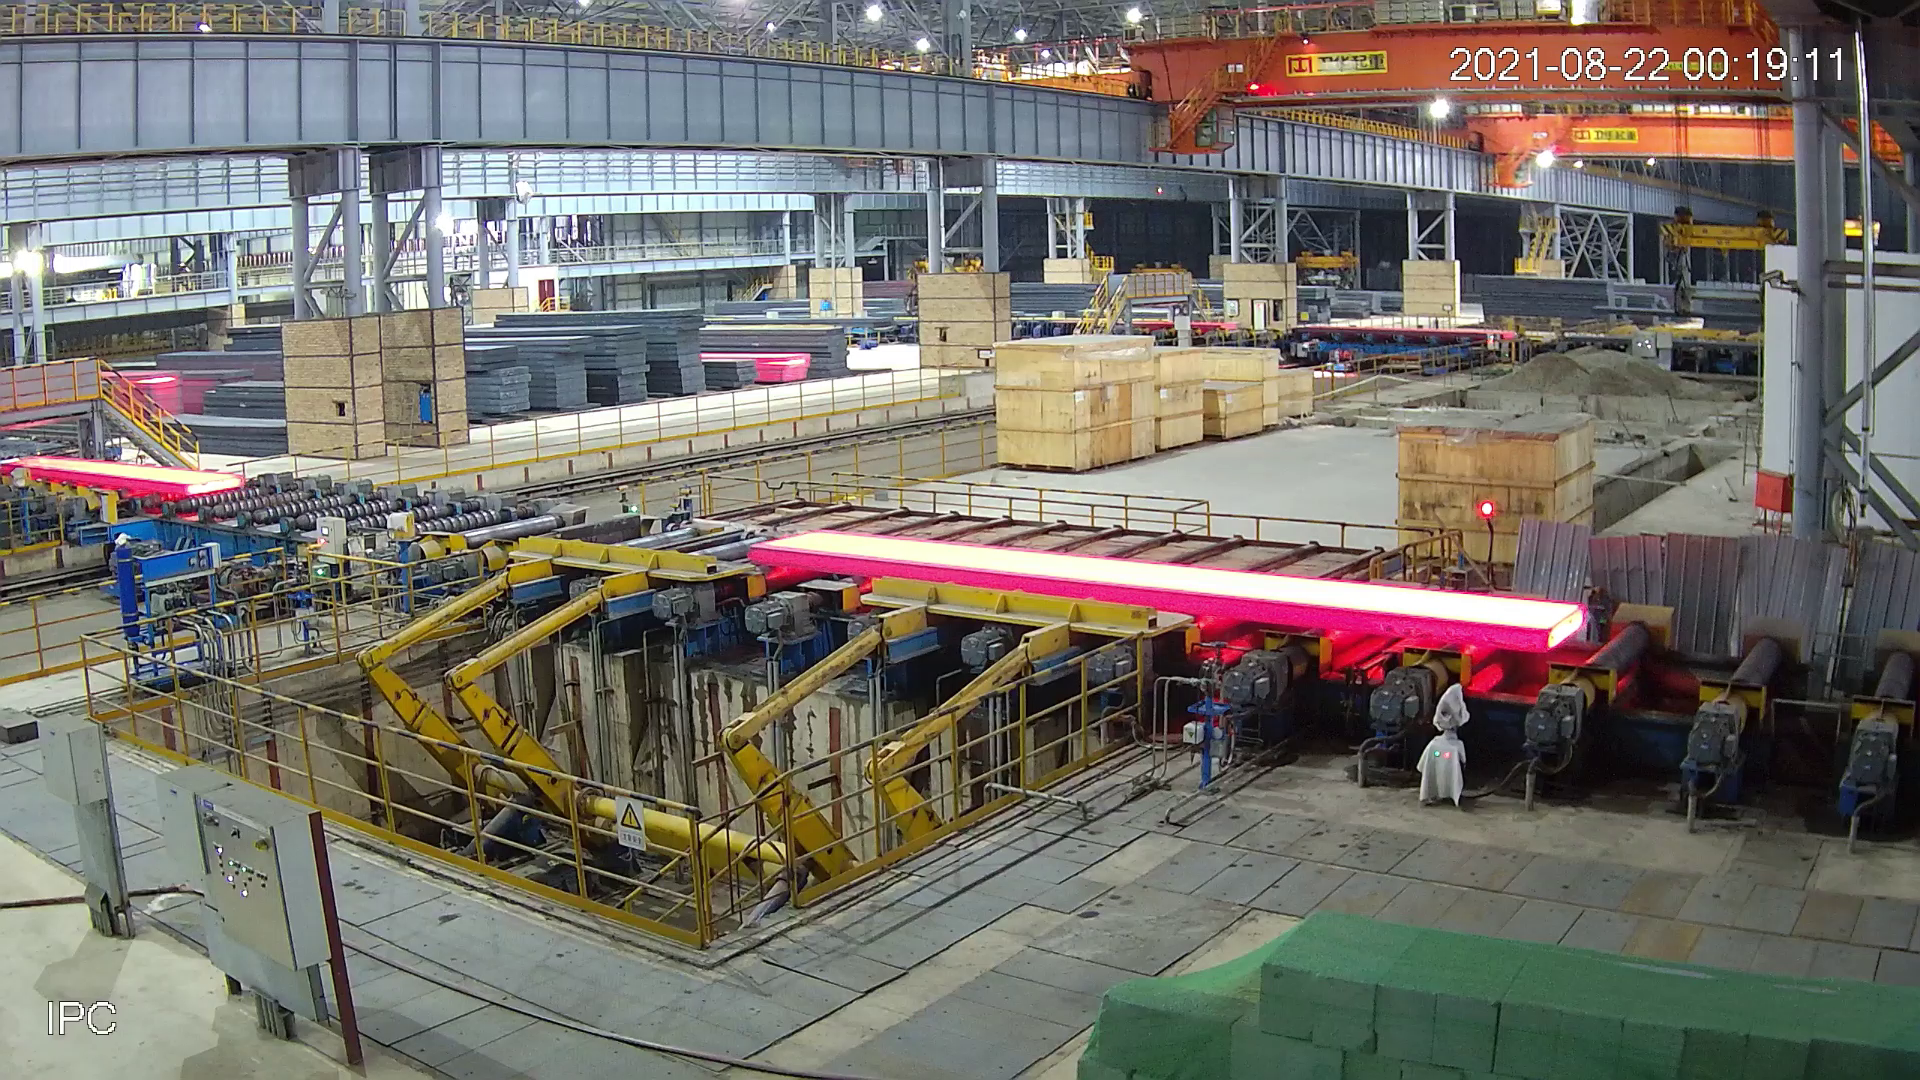slab: (738, 521, 1596, 655), (7, 447, 262, 535)
